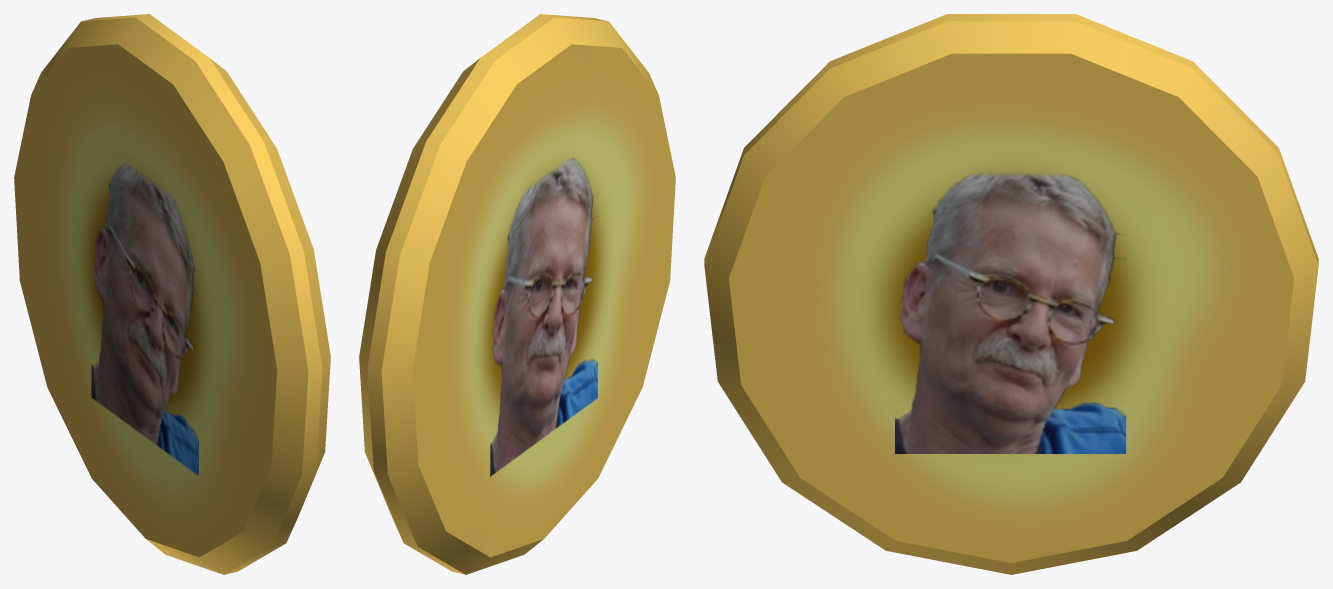
File: TumpCoin.FBX
The picture shows the model from 3 angles, left to right: view 1: azimuth 30°, elevation 25°; view 2: azimuth 150°, elevation 25°; view 3: azimuth 270°, elevation 25°; orthographic projection. The views are drawn at different scales.
Visible parts, largest first — view 1: ChamferCyl001; view 2: ChamferCyl001; view 3: ChamferCyl001.
Boxes of the visible parts, left/top/right/bottom form: ChamferCyl001: left=14, top=14, right=330, bottom=574; ChamferCyl001: left=359, top=14, right=675, bottom=574; ChamferCyl001: left=704, top=14, right=1318, bottom=574.
Size of the model in its own units: 5.98 by 54.94 by 55.24.
Materials: 1 (1 with a texture image).
